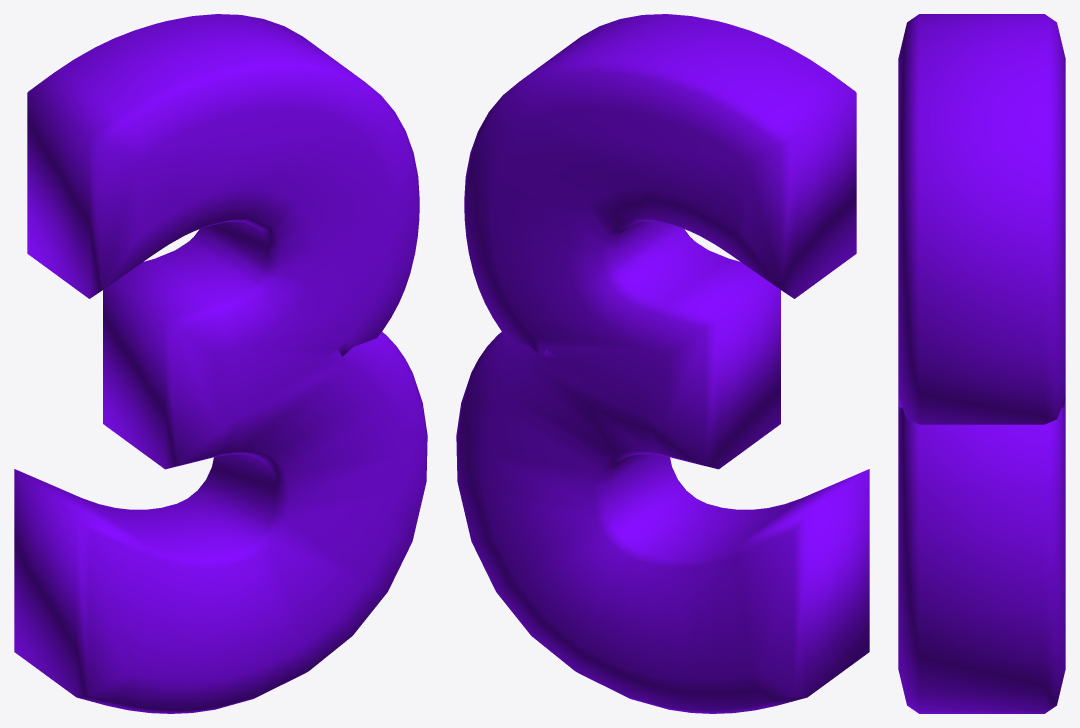
3 renders of one model, left to right at view 1: azimuth 30°, elevation 25°; view 2: azimuth 150°, elevation 25°; view 3: azimuth 270°, elevation 25°, orthographic.
Visible parts, largest first — view 1: 3_Numbers004_0; view 2: 3_Numbers004_0; view 3: 3_Numbers004_0.
Part boxes in pixels (box(x1,y1,x2,y2)): 3_Numbers004_0: box(14, 14, 427, 713); 3_Numbers004_0: box(456, 14, 869, 713); 3_Numbers004_0: box(898, 14, 1065, 713).
Size of the model in its own units: 0.2296 by 0.3998 by 0.0938.
